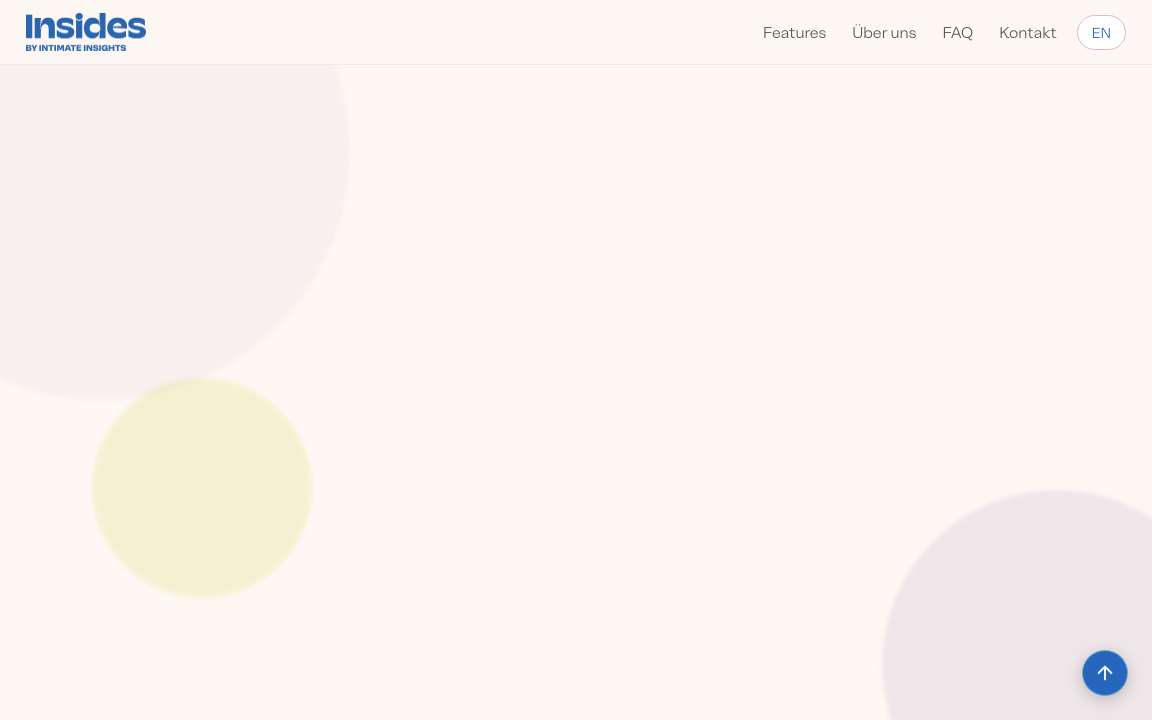
Test: renders individual team portraits, LinkedIn profiles, and email links
Click the button "EN" at [1101, 32], box [1077,14,1126,50]
(page scrolled)
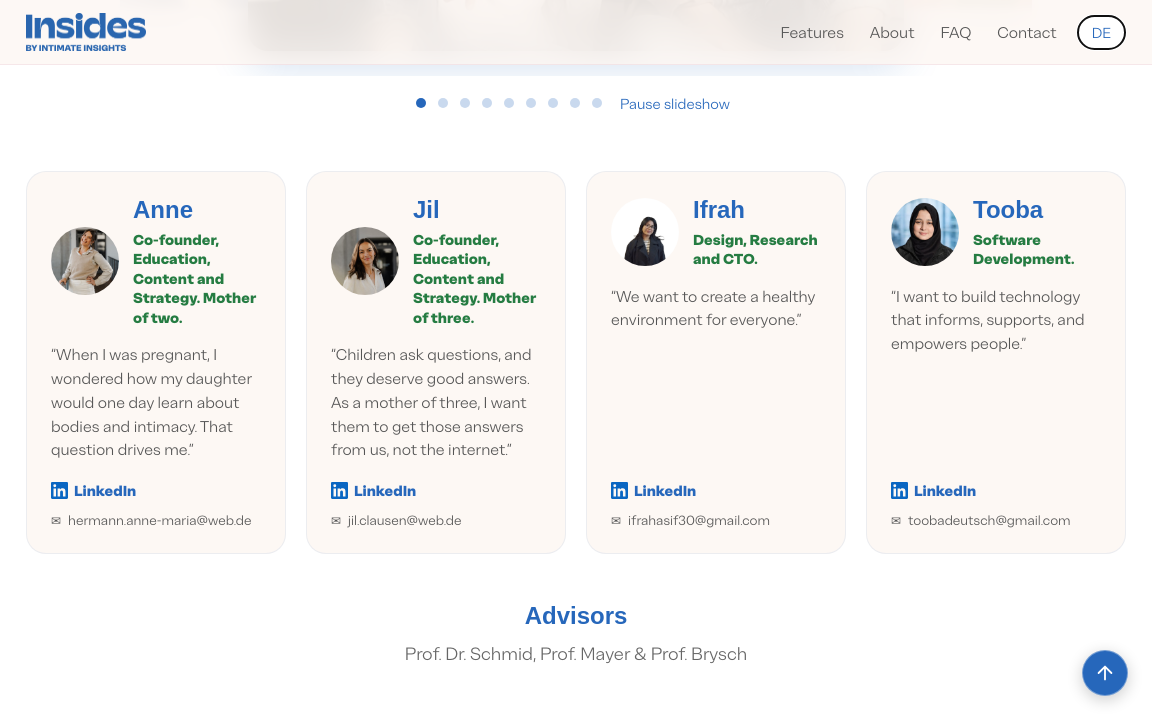
Expected: the text "Design, Research and CTO." is shown, [693,230,821,269]
Expected: the text "Software Development." is shown, [973,230,1074,268]
Expected: the text "“We want to create a healthy environment for everyone.”" is shown, [611,285,821,332]
